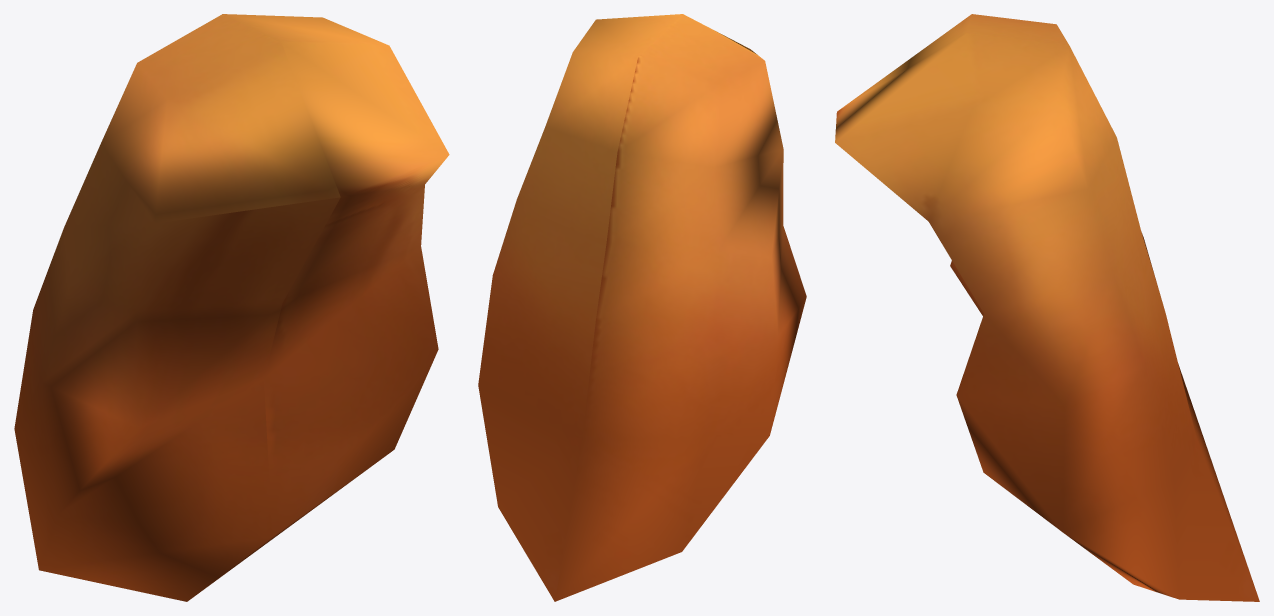
Rendered from hair_long_mesh.fbx.
3 renders of one model, left to right at view 1: azimuth 30°, elevation 25°; view 2: azimuth 150°, elevation 25°; view 3: azimuth 270°, elevation 25°, orthographic. The views are drawn at different scales.
Parts seen in each view (by area): view 1: hair_long_mesh; view 2: hair_long_mesh; view 3: hair_long_mesh.
Part boxes in pixels (x1,y1,x2,y2): hair_long_mesh: [14, 14, 449, 601]; hair_long_mesh: [478, 14, 806, 601]; hair_long_mesh: [835, 14, 1259, 601].
Size of the model in its own units: 24.21 by 41.32 by 28.
